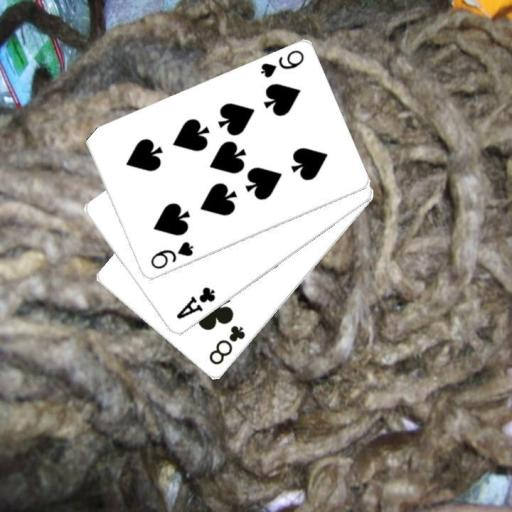8C: (206, 322, 248, 367)
9S: (147, 238, 196, 271), (257, 47, 306, 80)
AC: (173, 284, 217, 321)
